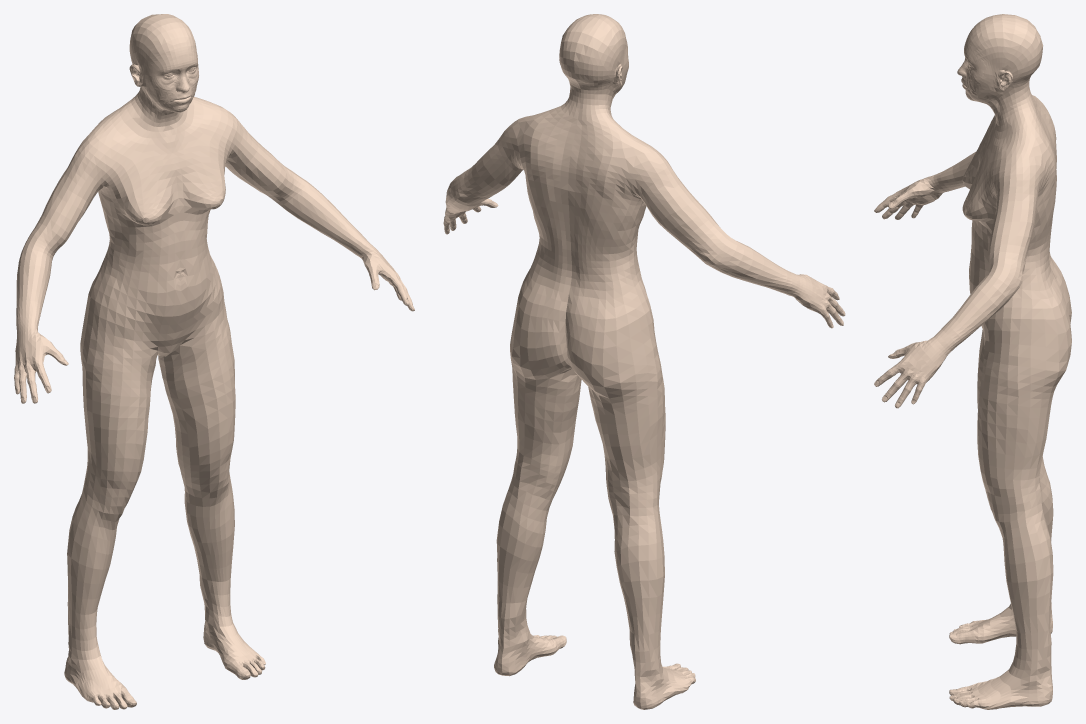
File: female-older-heavy-strong.glb
3 views of the same model, side by side, from view 1: azimuth 30°, elevation 25°; view 2: azimuth 150°, elevation 25°; view 3: azimuth 270°, elevation 25° (orthographic).
Visible parts, largest first — view 1: world; view 2: world; view 3: world.
Boxes of the visible parts, x1=… form: world: x1=14, y1=14, x2=414, y2=709; world: x1=443, y1=14, x2=845, y2=709; world: x1=874, y1=14, x2=1071, y2=709.
Bounding box in the file's own units: 1.14 × 1.83 × 0.5012.
